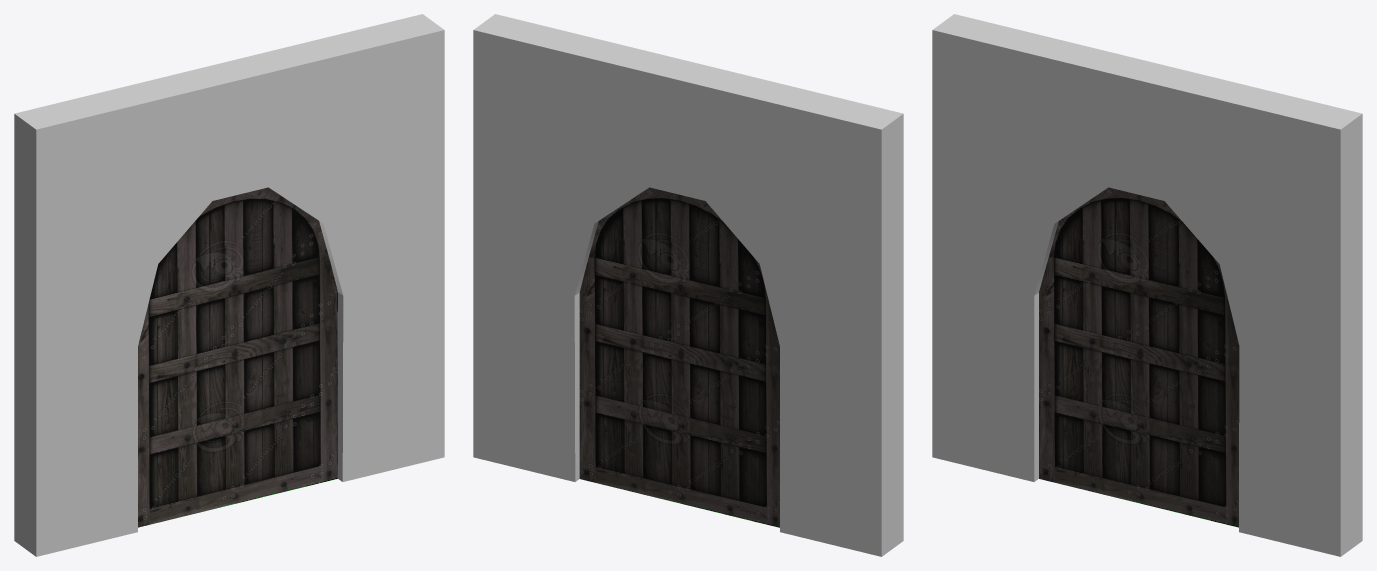
Rendered from WallDoor.fbx.
3 renders of one model, left to right at view 1: azimuth 30°, elevation 25°; view 2: azimuth 150°, elevation 25°; view 3: azimuth 330°, elevation 25°, orthographic.
Parts seen in each view (by area): view 1: Wall, Door; view 2: Wall, Door; view 3: Wall, Door.
Boxes of the visible parts, x1,y1,x2,y2 form: Wall: [14, 14, 444, 556]; Door: [138, 187, 337, 527]; Wall: [473, 14, 903, 556]; Door: [579, 187, 779, 527]; Wall: [932, 14, 1362, 556]; Door: [1039, 187, 1239, 527].
Bounding box in the file's own units: 40 × 40 × 3.72.
1 material, 1 textured.
